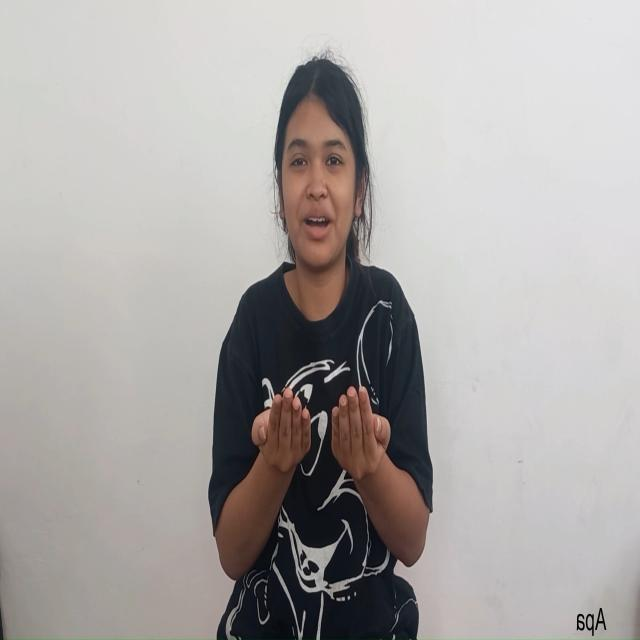Apa -BISINDO-: (213, 381, 432, 584)
